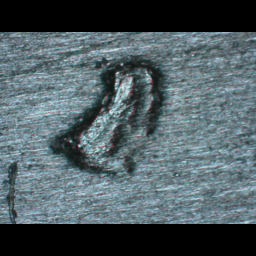d: (44, 55, 174, 182)
